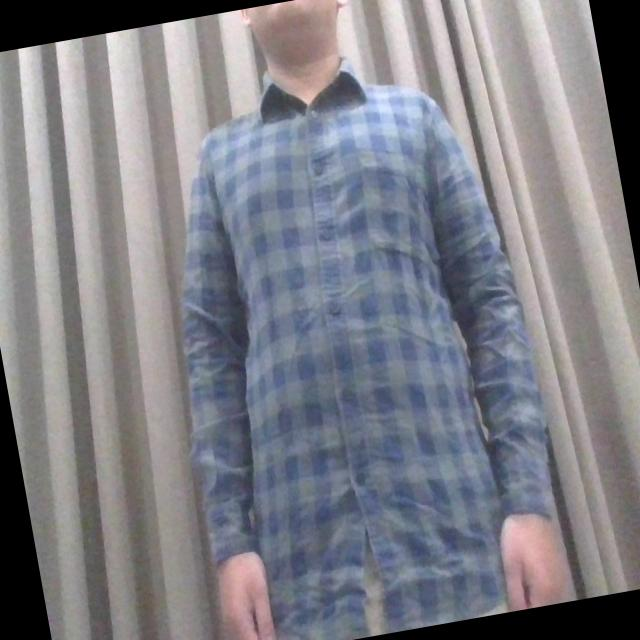long_Sleeve_shirt: (183, 70, 556, 640)
